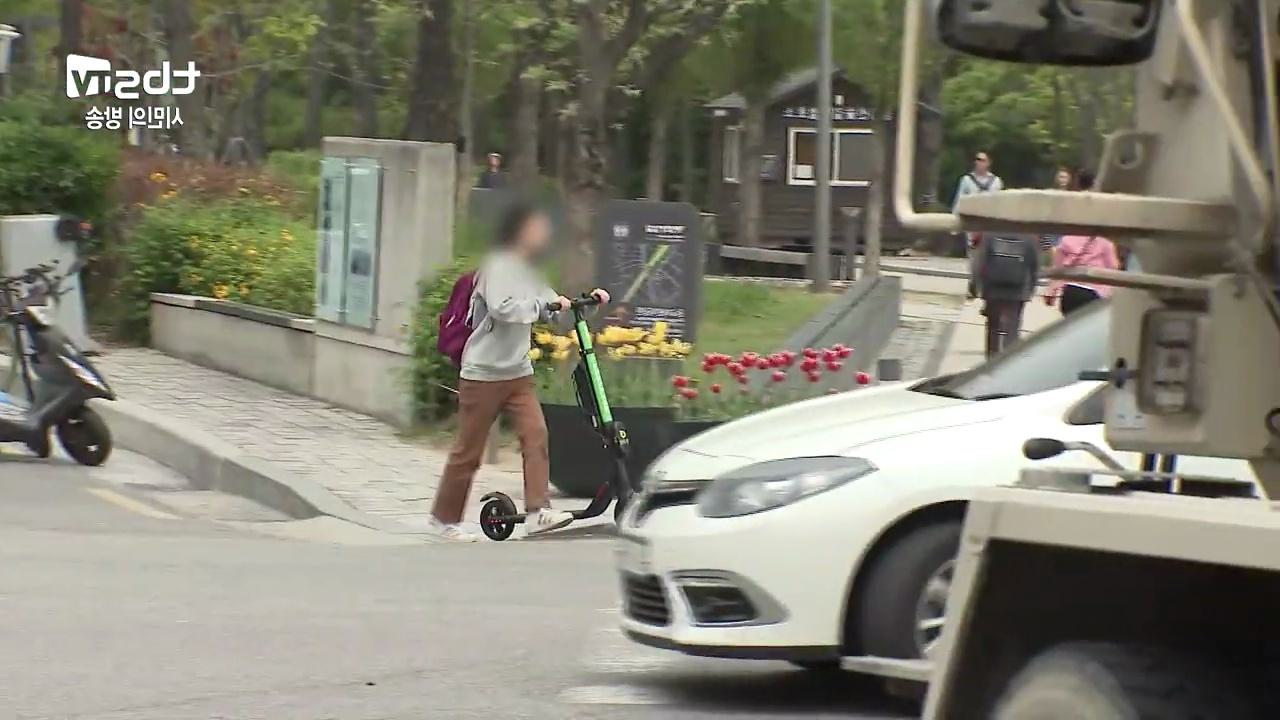nonhelmet: (412, 196, 644, 546)
